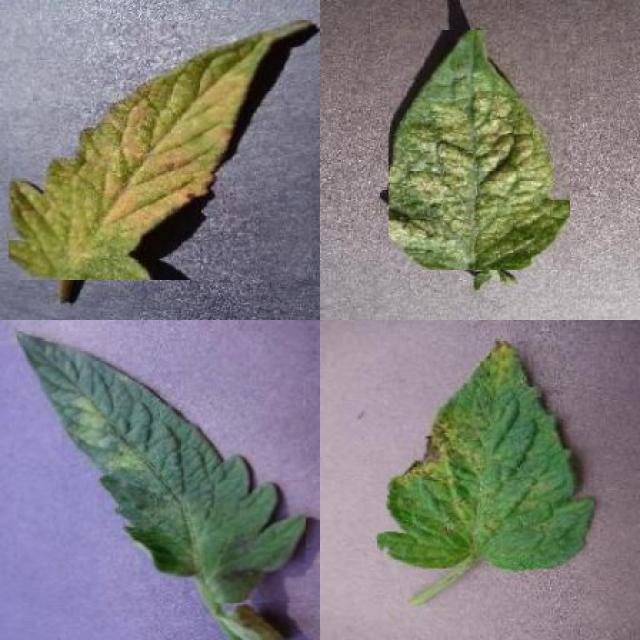Leaf Mold: (17, 330, 306, 603), (9, 20, 311, 280)
Septoria: (378, 340, 595, 569)
Spider Mites: (389, 30, 570, 270)
